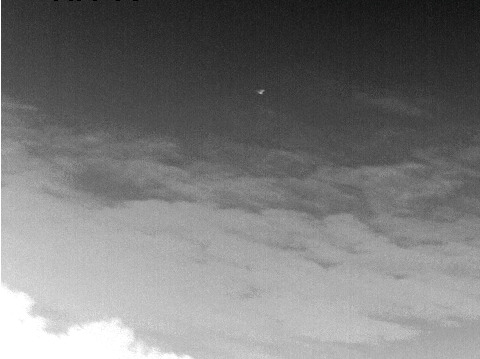dim target: (256, 89, 265, 95)
